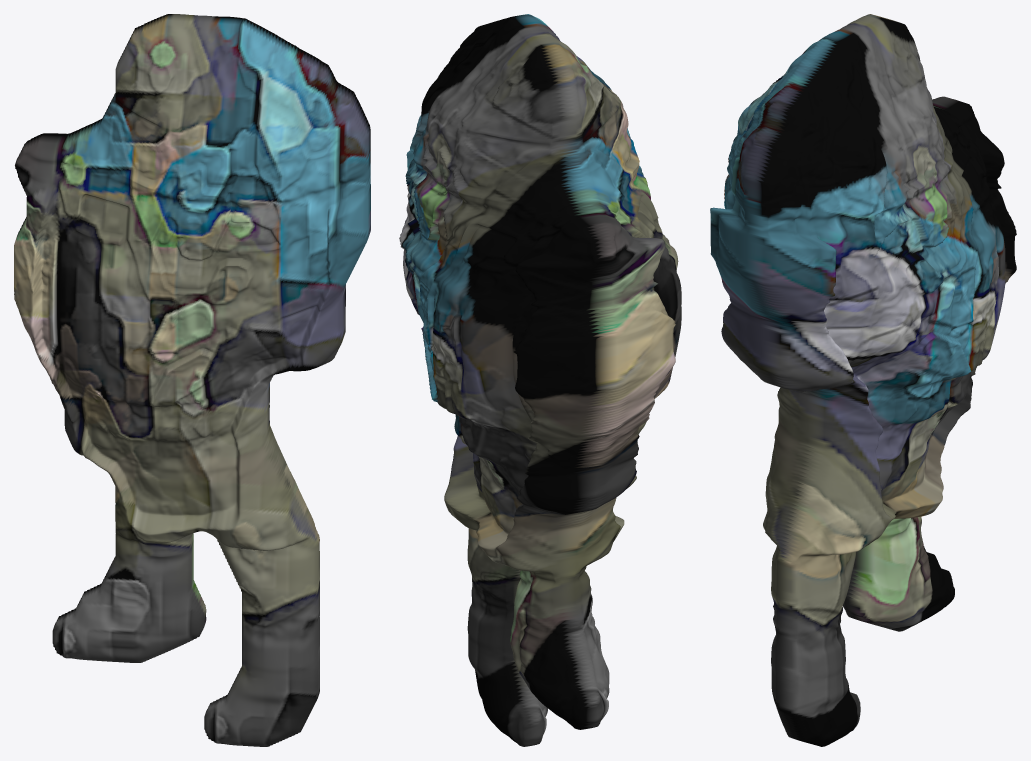
The model's file is chrono_commando.glb.
3 views of the same model, side by side, from view 1: azimuth 30°, elevation 25°; view 2: azimuth 150°, elevation 25°; view 3: azimuth 270°, elevation 25° (orthographic). The views are drawn at different scales.
Parts seen in each view (by area): view 1: chrono_commando; view 2: chrono_commando; view 3: chrono_commando.
Part boxes in pixels (x1,y1,x2,y2): chrono_commando: [14, 14, 370, 746]; chrono_commando: [399, 14, 681, 746]; chrono_commando: [710, 14, 1016, 746].
Bounding box in the file's own units: 0.9515 × 2.23 × 0.8887.
